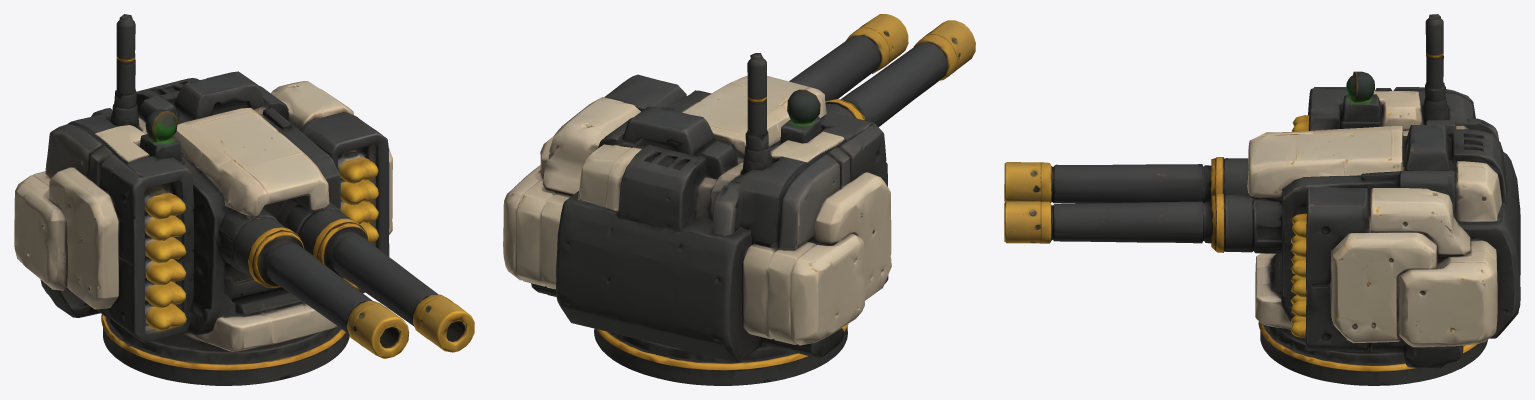
Rendered from autocannon.glb.
3 views of the same model, side by side, from view 1: azimuth 30°, elevation 25°; view 2: azimuth 150°, elevation 25°; view 3: azimuth 270°, elevation 25° (orthographic). The views are drawn at different scales.
Visible parts, largest first — view 1: tripo_node_3765d110-4520-45d0-a0dc-4fcc73ea7bab; view 2: tripo_node_3765d110-4520-45d0-a0dc-4fcc73ea7bab; view 3: tripo_node_3765d110-4520-45d0-a0dc-4fcc73ea7bab.
Part boxes in pixels (left/top/right/bottom): tripo_node_3765d110-4520-45d0-a0dc-4fcc73ea7bab: left=14, top=14, right=474, bottom=385; tripo_node_3765d110-4520-45d0-a0dc-4fcc73ea7bab: left=503, top=14, right=975, bottom=385; tripo_node_3765d110-4520-45d0-a0dc-4fcc73ea7bab: left=1004, top=14, right=1520, bottom=385.
Size of the model in its own units: 0.6639 by 0.6238 by 1.
Materials: 1 (1 with a texture image).
